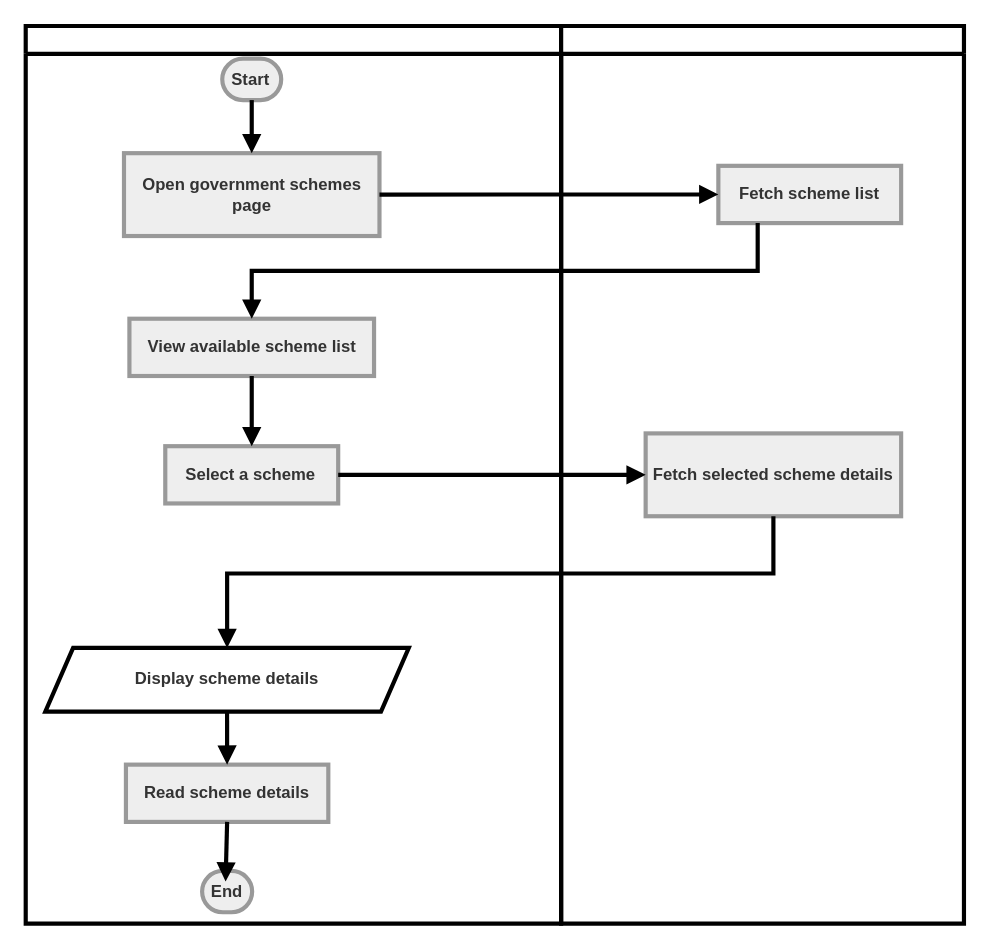
Some shapes in this 990 by 949 pixel diagram are drawn without their labels. Here are the shapes that lost their labels. From the top down, the centre of each, then its label:
point 293,474: User
point 761,474: System
